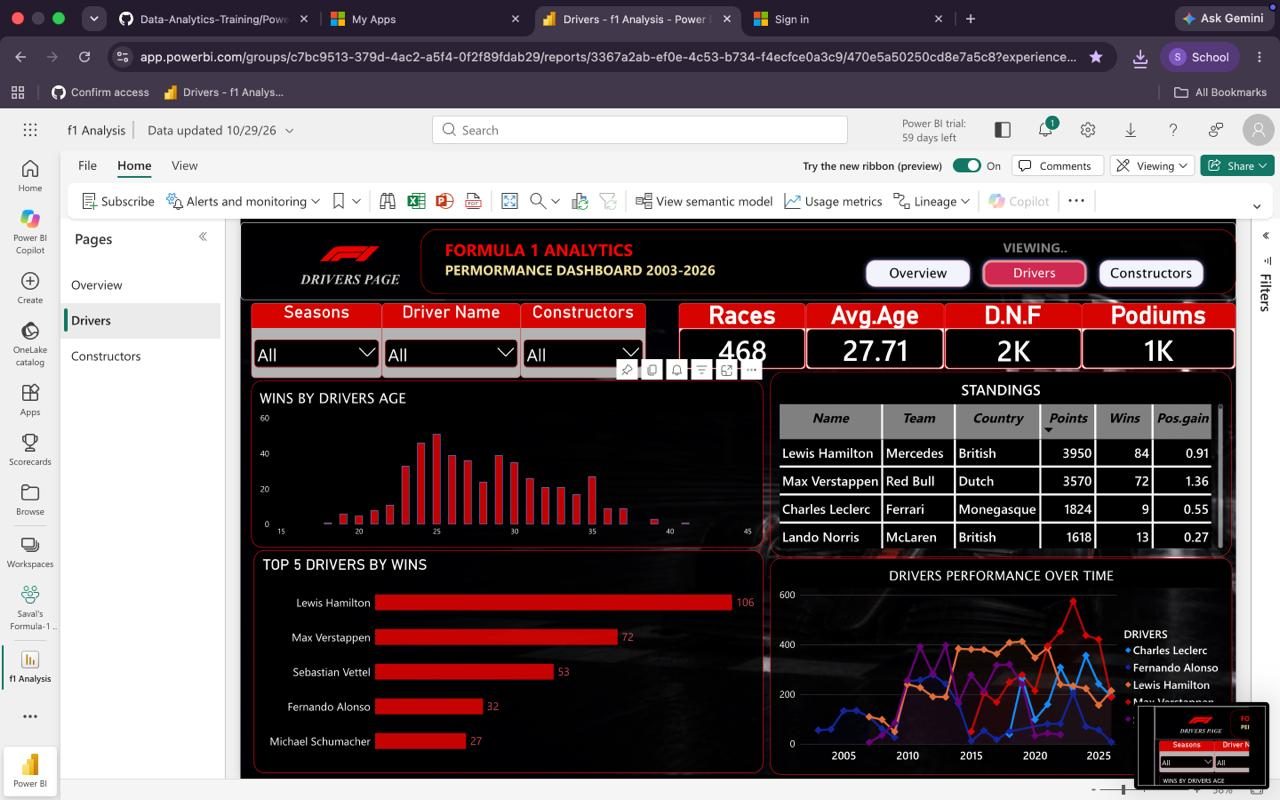

The page's visual inventory and layout, read from the dashboard file:
{"tool":"powerbi","page":{"name":"Drivers","canvas":[1920,1080],"ordinal":1},"visuals":[{"type":"textbox","box":[0,7.5,1920,150],"z":0},{"type":"cardVisual","title":"Avg.Age","fields":{"Data":["Avg(f1_main.drivers age)"]},"box":[1090,162.5,267.5,127.5],"z":1000},{"type":"cardVisual","title":"Races","fields":{"Data":["Count(f1_main.race_date)"]},"box":[845,162.5,245,127.5],"z":2000},{"type":"cardVisual","title":"Podiums","fields":{"Data":["f1_main.Total Podiums"]},"box":[1622.5,162.5,297.5,127.5],"z":3000},{"type":"image","box":[25.9,0,369.4,164.2],"z":4000},{"type":"cardVisual","title":" D.N.F","fields":{"Data":["Sum(f1_main.is_dnf)"]},"box":[1357.5,162.5,265,127.5],"z":5000},{"type":"slicer","title":"Seasons","fields":{"Values":["f1_main.season"]},"box":[20,162.5,252.7,144.7],"z":6000},{"type":"slicer","title":"Constructors","fields":{"Values":["f1_main.constructor_name"]},"box":[540,162.5,241.9,144.7],"z":7000},{"type":"textbox","box":[58.3,101.5,306.7,62.6],"z":8000},{"type":"slicer","title":"Driver Name","fields":{"Values":["f1_main.driver_name"]},"box":[272.5,162.5,267.8,144.7],"z":9000},{"type":"clusteredBarChart","title":"TOP 5 DRIVERS BY WINS ","fields":{"Category":["f1_main.driver_name"],"Y":["f1_main.Total Wins"]},"box":[25,640,982.5,430],"z":10000},{"type":"tableEx","title":"STANDINGS","fields":{"Values":["f1_main.driver_name","f1_main.constructor_name","f1_main.driver_nationality","Sum(f1_main.points)","Sum(f1_main.is_win)","f1_main.Avg Positions Gained"]},"box":[1022.5,295,890,357.5],"z":11000},{"type":"clusteredColumnChart","title":"WINS BY DRIVERS AGE","fields":{"Category":["f1_main.drivers age"],"Y":["Sum(f1_main.is_win)"]},"box":[20,312.5,987.5,322.5],"z":12000},{"type":"shape","box":[347.5,20,1572.5,125],"z":13000},{"type":"textbox","box":[395,37.5,802.5,122.5],"z":14000},{"type":"lineChart","title":"DRIVERS PERFORMANCE OVER TIME","fields":{"Category":["f1_main.season"],"Series":["f1_main.driver_name"],"Y":["Sum(f1_main.points)"]},"box":[1022.2,655.6,891.1,417.8],"z":15000},{"type":"pageNavigator","title":"VIEWING..","box":[1197.8,37.8,668.9,102.2],"z":15001}]}

Visuals, with their boxes on the page's 1920x1080 design canvas (x1, y1, x2, y2). These are canvas units, not pixel positions in the 1280x800 screenshot, which may show the page scaled, cropped or inside an application window:
textbox: Rect(0, 8, 1920, 158)
"Avg.Age" cardVisual: Rect(1090, 162, 1358, 290)
"Races" cardVisual: Rect(845, 162, 1090, 290)
"Podiums" cardVisual: Rect(1622, 162, 1920, 290)
image: Rect(26, 0, 395, 164)
" D.N.F" cardVisual: Rect(1358, 162, 1622, 290)
"Seasons" slicer: Rect(20, 162, 273, 307)
"Constructors" slicer: Rect(540, 162, 782, 307)
textbox: Rect(58, 102, 365, 164)
"Driver Name" slicer: Rect(272, 162, 540, 307)
"TOP 5 DRIVERS BY WINS " clusteredBarChart: Rect(25, 640, 1008, 1070)
"STANDINGS" tableEx: Rect(1022, 295, 1912, 652)
"WINS BY DRIVERS AGE" clusteredColumnChart: Rect(20, 312, 1008, 635)
shape: Rect(348, 20, 1920, 145)
textbox: Rect(395, 38, 1198, 160)
"DRIVERS PERFORMANCE OVER TIME" lineChart: Rect(1022, 656, 1913, 1073)
"VIEWING.." pageNavigator: Rect(1198, 38, 1867, 140)
